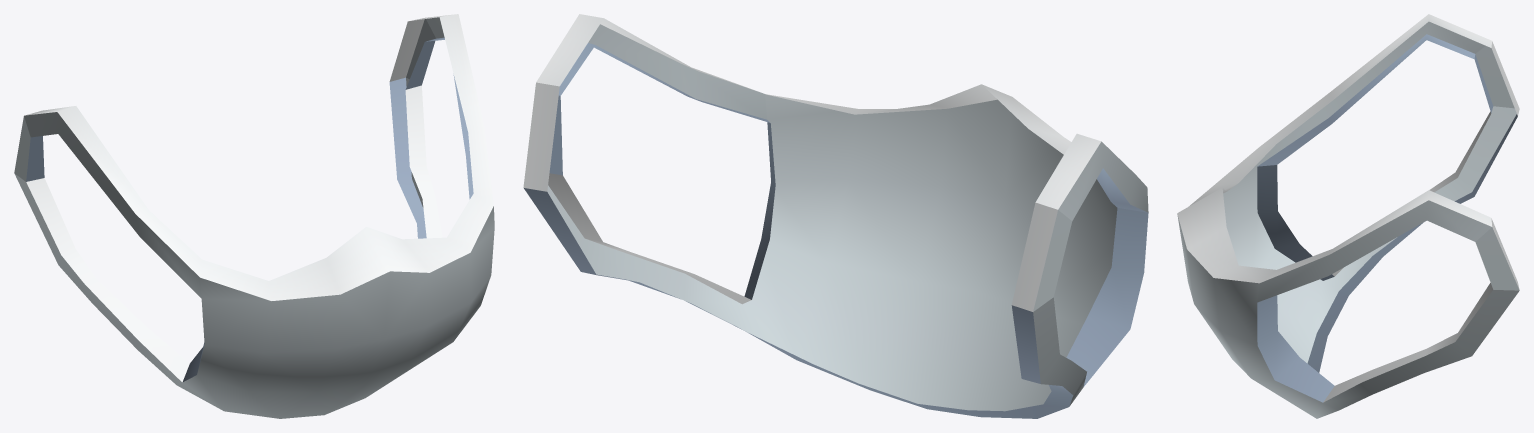
Rendered from medical_mask.FBX.
3 renders of one model, left to right at view 1: azimuth 30°, elevation 25°; view 2: azimuth 150°, elevation 25°; view 3: azimuth 270°, elevation 25°, orthographic. The views are drawn at different scales.
Parts seen in each view (by area): view 1: medical_mask; view 2: medical_mask; view 3: medical_mask.
Boxes of the visible parts, box(x1,y1,x2,y2) form: medical_mask: box(14, 14, 494, 418); medical_mask: box(523, 14, 1148, 418); medical_mask: box(1177, 14, 1519, 418).
Size of the model in its own units: 17.62 by 12.66 by 13.56.
